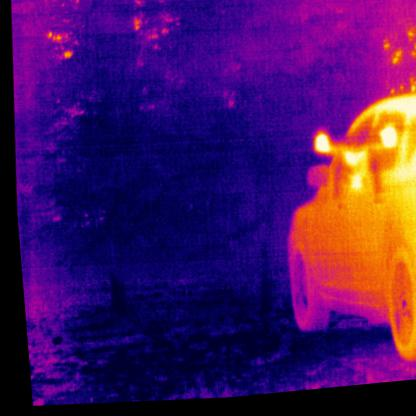drone: (303, 126, 398, 203)
vehicle: (265, 89, 415, 377)
